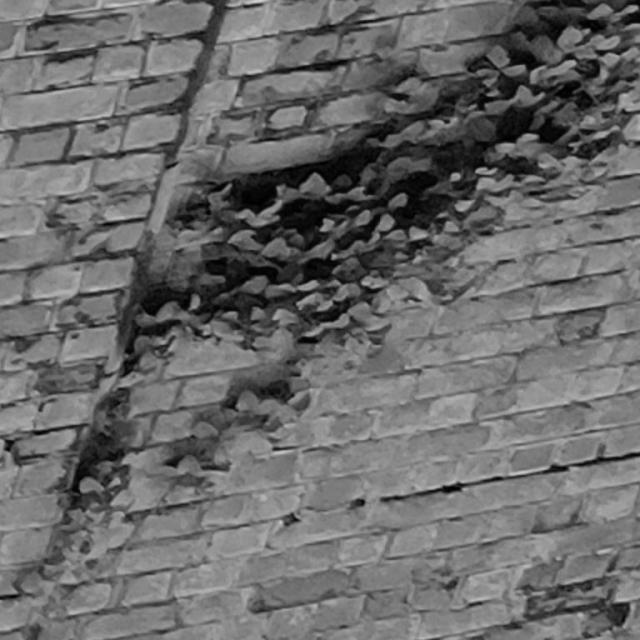crack: (349, 452, 639, 508)
